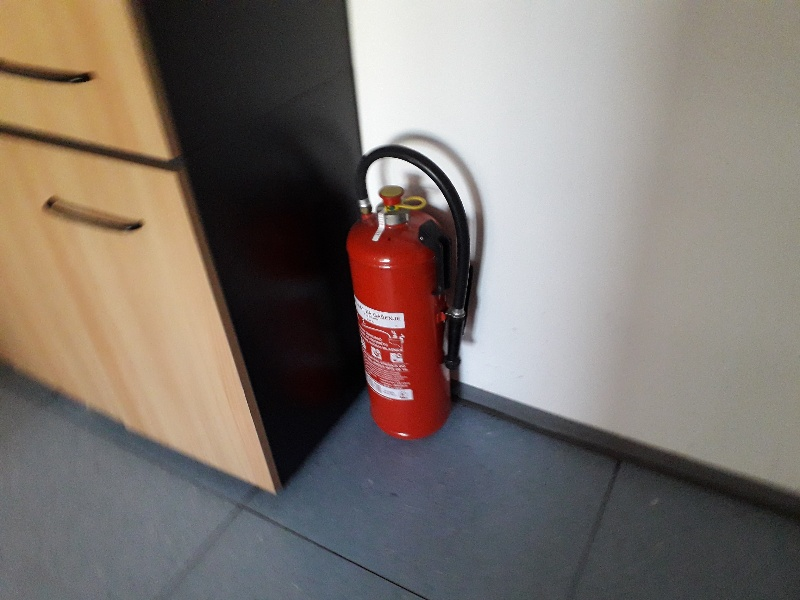vataparat: (346, 144, 474, 442)
